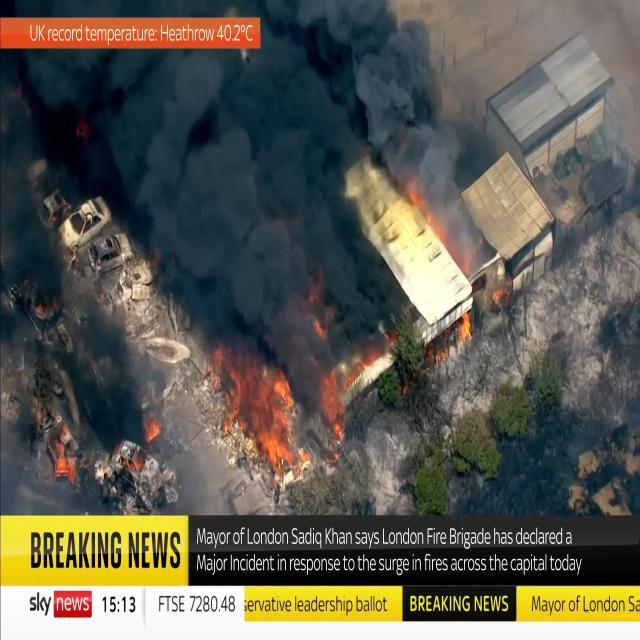Fire: (208, 338, 314, 478), (400, 171, 476, 358), (314, 328, 392, 442), (300, 275, 337, 345), (489, 278, 516, 316), (113, 441, 146, 472), (141, 416, 165, 438), (56, 423, 69, 460), (34, 406, 44, 422)
Smoke: (11, 0, 474, 412), (0, 102, 154, 452)
